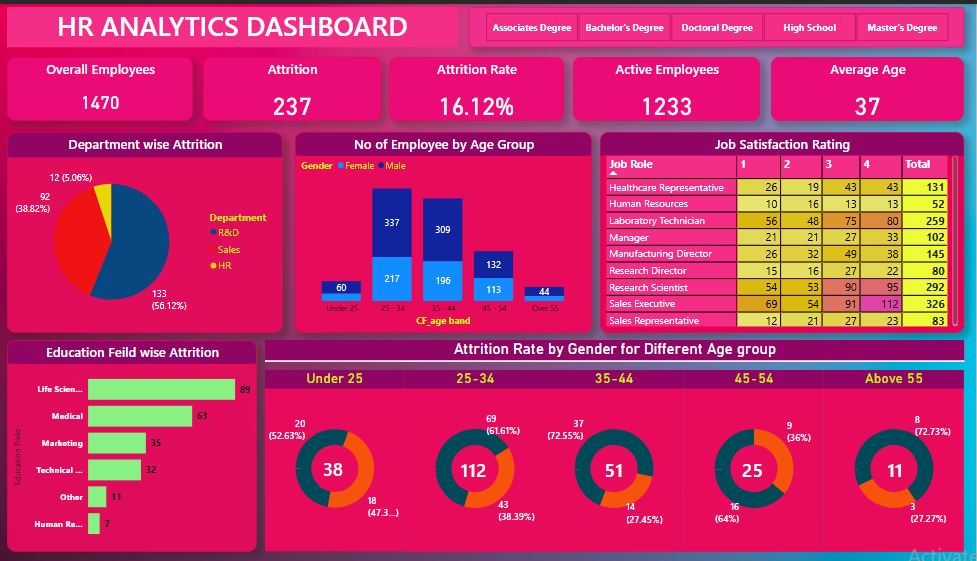

The page's visual inventory and layout, read from the dashboard file:
{"tool":"powerbi","page":{"name":"Page 1","canvas":[1700,970],"ordinal":0},"visuals":[{"type":"cardVisual","title":"Overall Employees","fields":{"Data":["Sum(HR data.Employee Count)"]},"box":[15.6,91.5,323.3,111],"z":0},{"type":"cardVisual","title":"Attrition","fields":{"Data":["Sum(HR data.Attrition Count)"]},"box":[356.4,91.5,309.7,111],"z":1000},{"type":"cardVisual","title":"Attrition Rate","fields":{"Data":["HR data.Attrition Rate"]},"box":[679.8,91.5,303.9,111],"z":2000},{"type":"cardVisual","title":"Active Employees","fields":{"Data":["HR data.Active Employees"]},"box":[999.2,91.5,325.3,111],"z":3000},{"type":"cardVisual","title":"Average Age","fields":{"Data":["Avg(HR data.Age)"]},"box":[1344,91.5,335,111],"z":4000},{"type":"pieChart","title":"Department wise Attrition","fields":{"Category":["HR data.Department"],"Y":["Sum(HR data.Attrition Count)"],"Series":["HR data.Employee Count"]},"box":[15.6,222,479.2,348.7],"z":5000},{"type":"columnChart","title":"No of Employee by Age Group","fields":{"Category":["HR data.CF_age band"],"Y":["Sum(HR data.Employee Count)"],"Series":["HR data.Gender"]},"box":[516.2,222,516.2,348.7],"z":6000},{"type":"pivotTable","title":"Job Satisfaction Rating","fields":{"Rows":["HR data.Job Role"],"Columns":["HR data.Job Satisfaction"],"Values":["Sum(HR data.Employee Count)"]},"box":[1046,222,633,348.7],"z":7000},{"type":"barChart","title":"Education Feild wise Attrition","fields":{"Category":["HR data.Education Field"],"Y":["Sum(HR data.Attrition Count)"]},"box":[15.6,584.3,434.4,368.1],"z":8000},{"type":"textbox","title":"HR ANALYTICS DASHBOARD","box":[15.6,5.8,783,70.1],"z":9000},{"type":"slicer","fields":{"Values":["HR data.Education"]},"box":[818.1,5.8,860.9,70.1],"z":10000},{"type":"textbox","title":"Attrition Rate by Gender for Different Age group","box":[463.8,583.7,1216.2,37.7],"z":11000},{"type":"donutChart","title":"Under 25","fields":{"Category":["HR data.Gender"],"Y":["Sum(HR data.Attrition Count)"],"Series":["HR data.CF_age band"]},"box":[463.8,636.9,243,315.1],"z":12000},{"type":"donutChart","title":"25-34","fields":{"Category":["HR data.Gender"],"Y":["Sum(HR data.Attrition Count)"],"Series":["HR data.CF_age band"]},"box":[707,636.9,243.5,315.5],"z":13000},{"type":"donutChart","title":"35-44","fields":{"Category":["HR data.Gender"],"Y":["Sum(HR data.Attrition Count)"],"Series":["HR data.CF_age band"]},"box":[948.6,636.9,243.5,315.5],"z":14000},{"type":"donutChart","title":"45-54","fields":{"Category":["HR data.Gender"],"Y":["Sum(HR data.Attrition Count)"],"Series":["HR data.CF_age band"]},"box":[1192,636.9,243.5,315.5],"z":15000},{"type":"donutChart","title":"Above 55","fields":{"Category":["HR data.Gender"],"Y":["Sum(HR data.Attrition Count)"],"Series":["HR data.CF_age band"]},"box":[1435.5,636.9,243.5,315.5],"z":16000},{"type":"cardVisual","fields":{"Data":["Sum(HR data.Attrition Count)"],"Rows":["HR data.CF_age band"]},"box":[494.7,748,140.2,113],"z":17000},{"type":"cardVisual","fields":{"Data":["Sum(HR data.Attrition Count)"],"Rows":["HR data.CF_age band"]},"box":[728.5,748,159.7,113],"z":18000},{"type":"cardVisual","fields":{"Data":["Sum(HR data.Attrition Count)"],"Rows":["HR data.CF_age band"]},"box":[983.6,748,140.2,113],"z":19000},{"type":"cardVisual","fields":{"Data":["Sum(HR data.Attrition Count)"],"Rows":["HR data.CF_age band"]},"box":[1233,748,128.6,113],"z":19001},{"type":"cardVisual","fields":{"Data":["Sum(HR data.Attrition Count)"],"Rows":["HR data.CF_age band"]},"box":[1466.7,748,150,113],"z":19002}]}

Visuals, with their boxes in screenshot pixels (x1, y1, x2, y2), scaled from the page's 1700x970 canvas onto the 977x561 screenshot:
"Overall Employees" cardVisual: region(9, 53, 195, 117)
"Attrition" cardVisual: region(205, 53, 383, 117)
"Attrition Rate" cardVisual: region(391, 53, 565, 117)
"Active Employees" cardVisual: region(574, 53, 761, 117)
"Average Age" cardVisual: region(772, 53, 965, 117)
"Department wise Attrition" pieChart: region(9, 128, 284, 330)
"No of Employee by Age Group" columnChart: region(297, 128, 593, 330)
"Job Satisfaction Rating" pivotTable: region(601, 128, 965, 330)
"Education Feild wise Attrition" barChart: region(9, 338, 259, 551)
"HR ANALYTICS DASHBOARD" textbox: region(9, 3, 459, 44)
slicer - HR data.Education: region(470, 3, 965, 44)
"Attrition Rate by Gender for Different Age group" textbox: region(267, 338, 966, 359)
"Under 25" donutChart: region(267, 368, 406, 551)
"25-34" donutChart: region(406, 368, 546, 551)
"35-44" donutChart: region(545, 368, 685, 551)
"45-54" donutChart: region(685, 368, 825, 551)
"Above 55" donutChart: region(825, 368, 965, 551)
cardVisual - Sum(HR data.Attrition Count) x HR data.CF_age band: region(284, 433, 365, 498)
cardVisual - Sum(HR data.Attrition Count) x HR data.CF_age band: region(419, 433, 510, 498)
cardVisual - Sum(HR data.Attrition Count) x HR data.CF_age band: region(565, 433, 646, 498)
cardVisual - Sum(HR data.Attrition Count) x HR data.CF_age band: region(709, 433, 783, 498)
cardVisual - Sum(HR data.Attrition Count) x HR data.CF_age band: region(843, 433, 929, 498)
